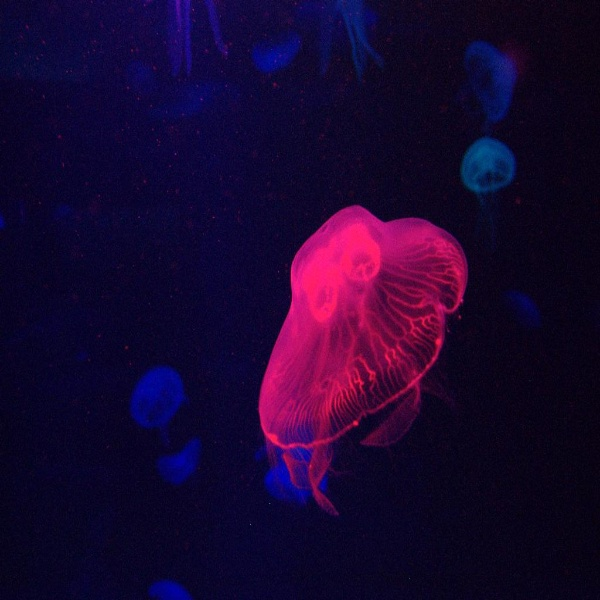Jellyfish: (256, 200, 469, 516), (462, 38, 518, 123), (459, 135, 513, 191), (132, 368, 181, 423), (255, 30, 303, 71), (159, 442, 199, 484), (152, 580, 190, 599)
